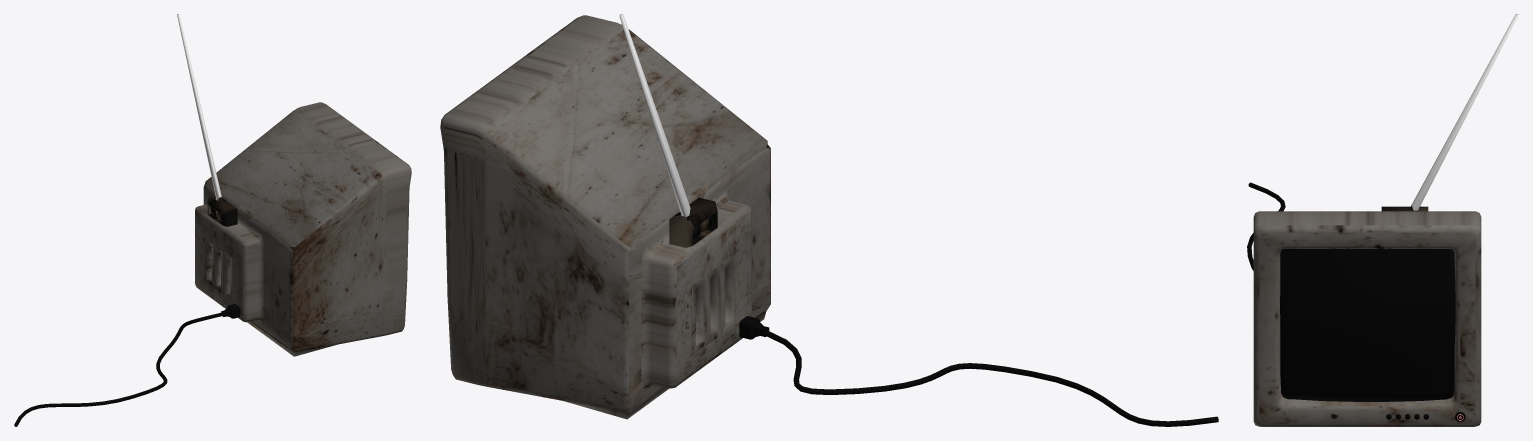
The model's file is old_computer_monitor_and_tv_model..glb.
3 renders of one model, left to right at view 1: azimuth 30°, elevation 25°; view 2: azimuth 150°, elevation 25°; view 3: azimuth 270°, elevation 25°, orthographic. The views are drawn at different scales.
Parts seen in each view (by area): view 1: Monitor, Wire, Anatena; view 2: Monitor, Wire, Anatena; view 3: Display, Monitor, Anatena, Wire.
Part boxes in pixels (x1,y1,x2,y2): Monitor: [195, 102, 411, 356]; Wire: [14, 312, 223, 426]; Anatena: [177, 14, 221, 200]; Monitor: [440, 15, 770, 419]; Wire: [760, 330, 1218, 426]; Anatena: [619, 14, 690, 216]; Display: [1280, 249, 1455, 401]; Monitor: [1253, 204, 1481, 426]; Anatena: [1412, 14, 1518, 210]; Wire: [1247, 182, 1285, 270].
Size of what is drawn, in the model's own units: 5.13 by 3.29 by 2.39.
Materials: 5 (1 with a texture image).
